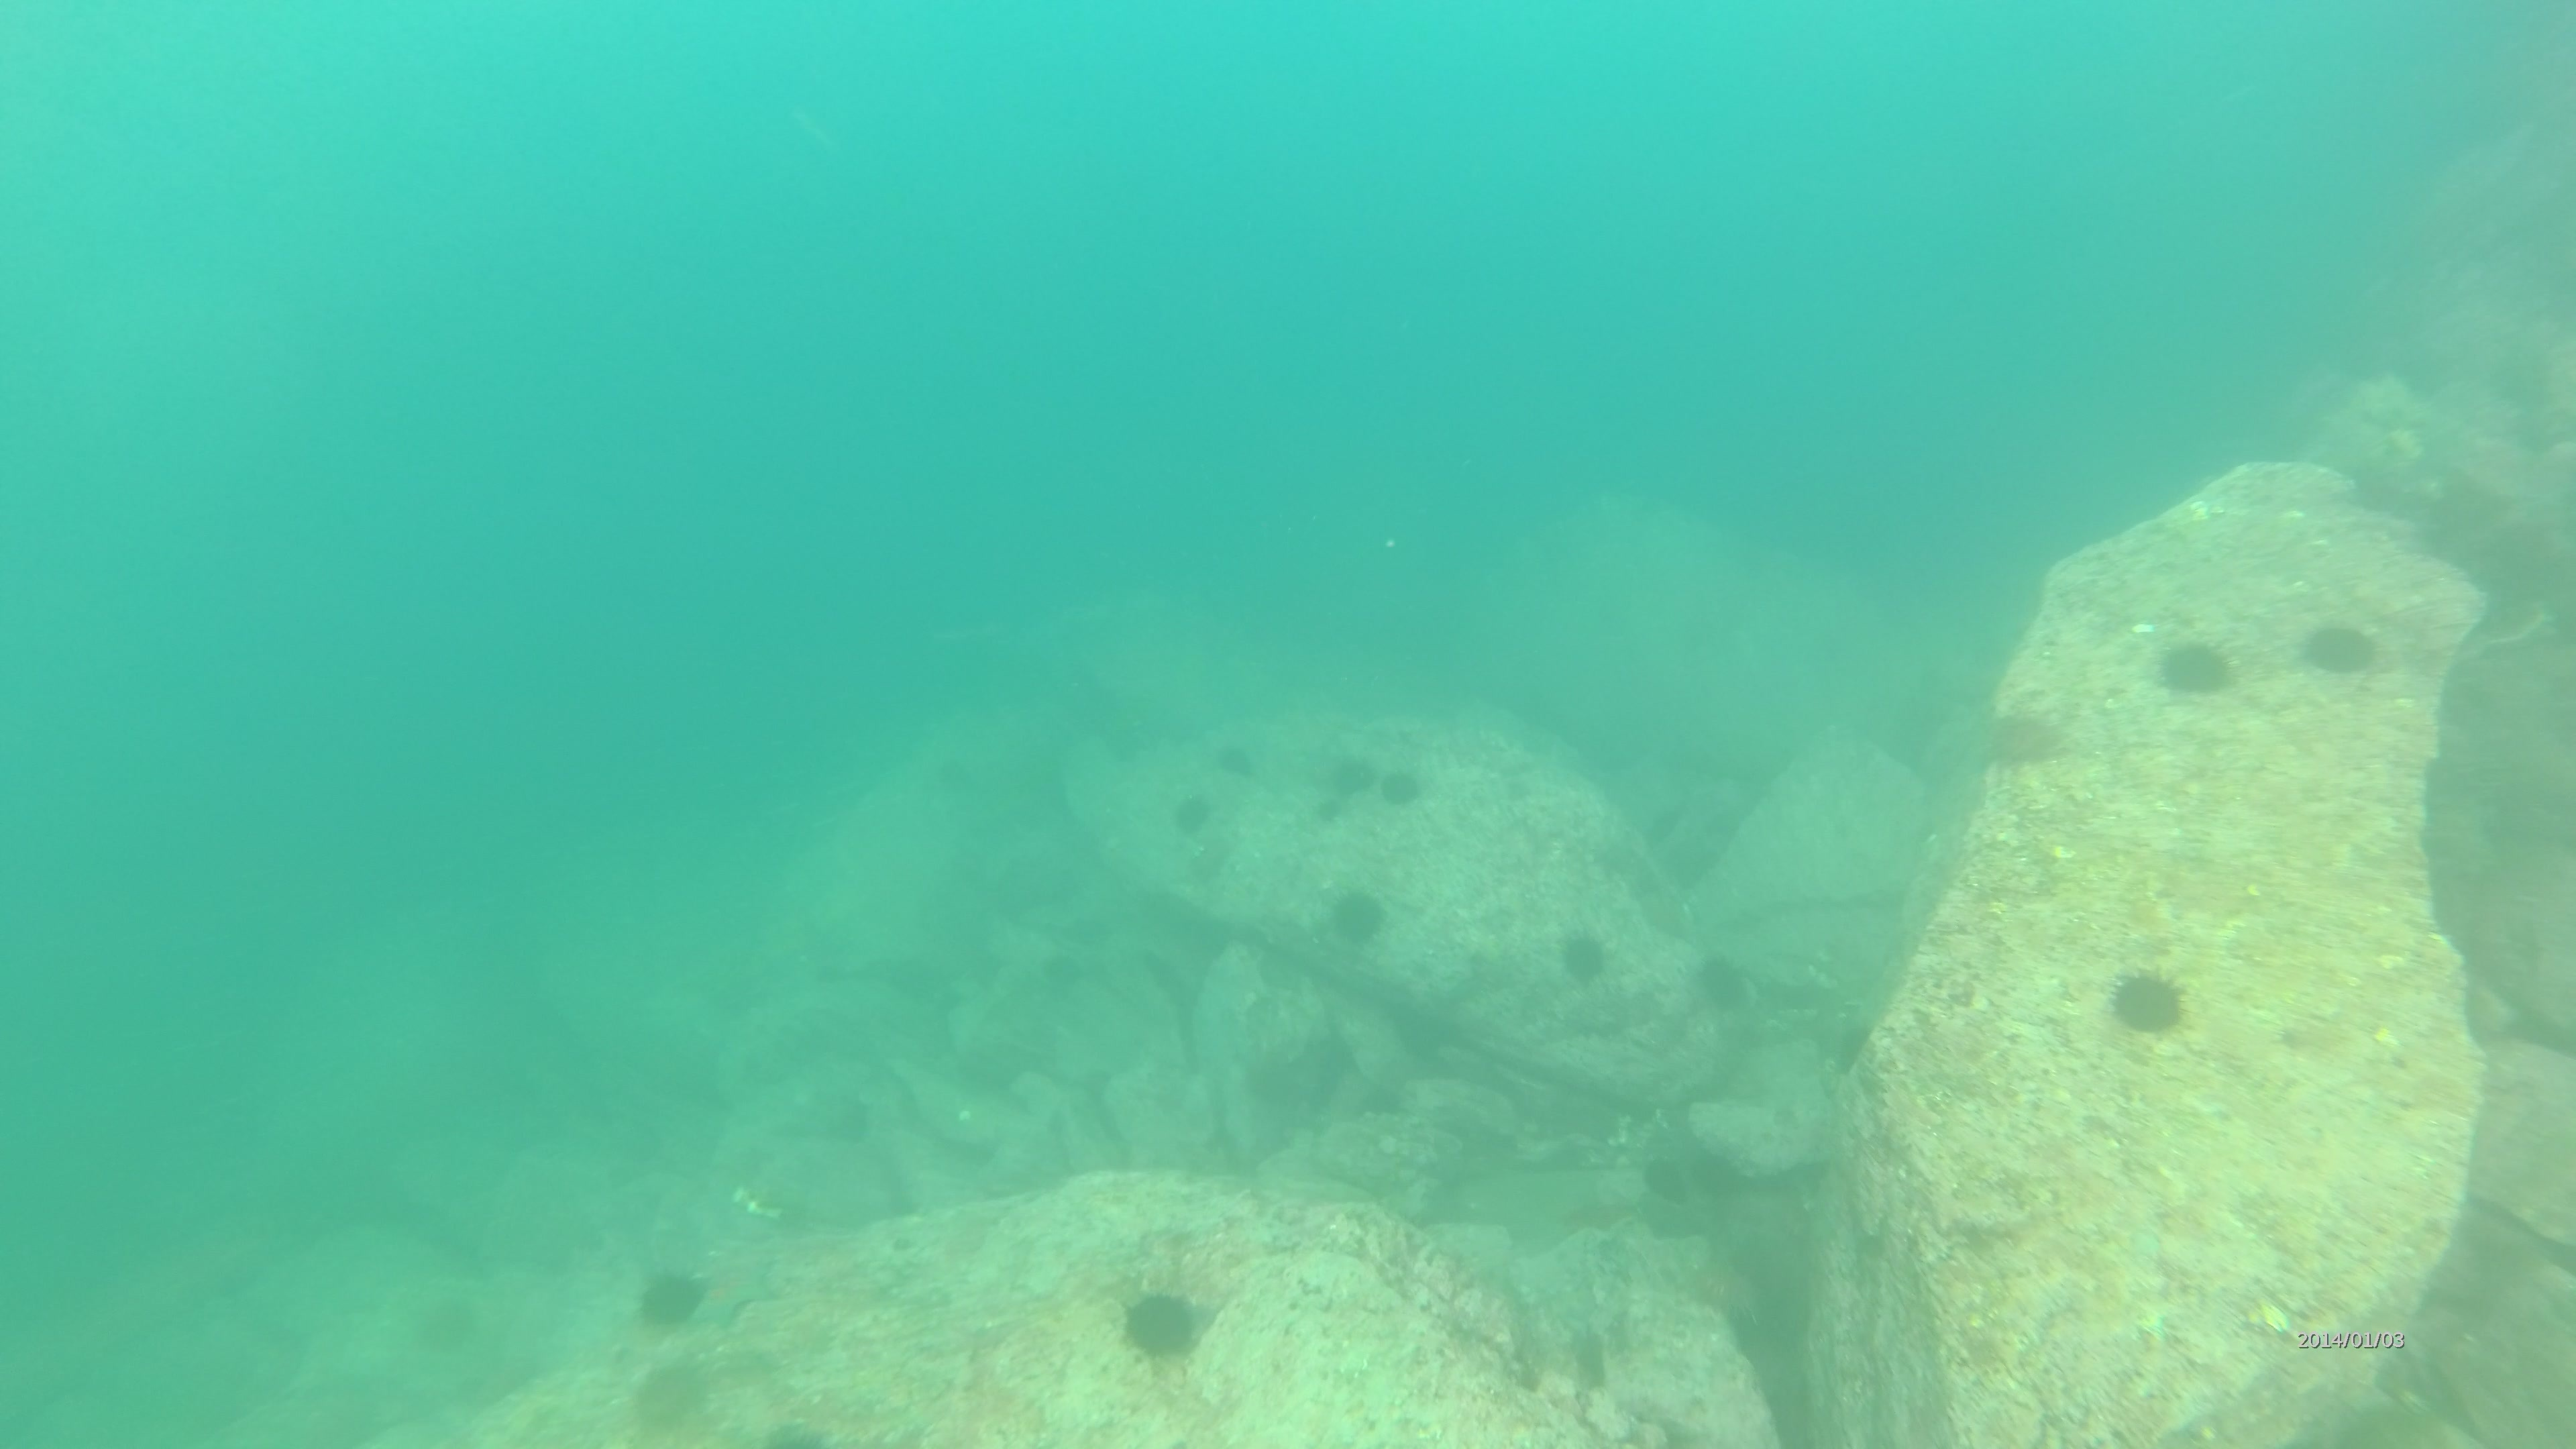echinus: (1120, 1277, 1212, 1371), (2102, 962, 2201, 1037), (1619, 1141, 1695, 1219), (1982, 706, 2072, 771), (1821, 1016, 1897, 1092), (1690, 939, 1767, 1014), (1545, 911, 1619, 987), (1683, 1127, 1757, 1203), (1665, 828, 1743, 901), (630, 1265, 715, 1330), (1320, 874, 1394, 948), (628, 1362, 713, 1426), (2305, 616, 2383, 685), (421, 1288, 487, 1353), (2162, 642, 2231, 697), (1168, 780, 1221, 844), (1366, 766, 1426, 810), (1325, 750, 1376, 794), (1215, 741, 1267, 786), (1070, 908, 1122, 952), (1033, 941, 1085, 985), (1300, 791, 1352, 835)
